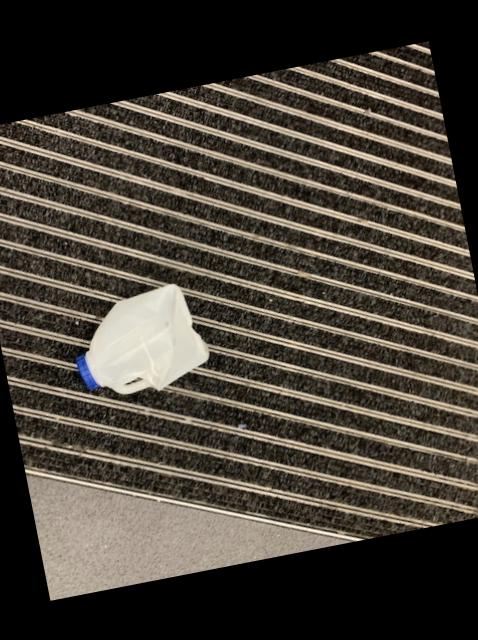plastic: (77, 283, 210, 393)
